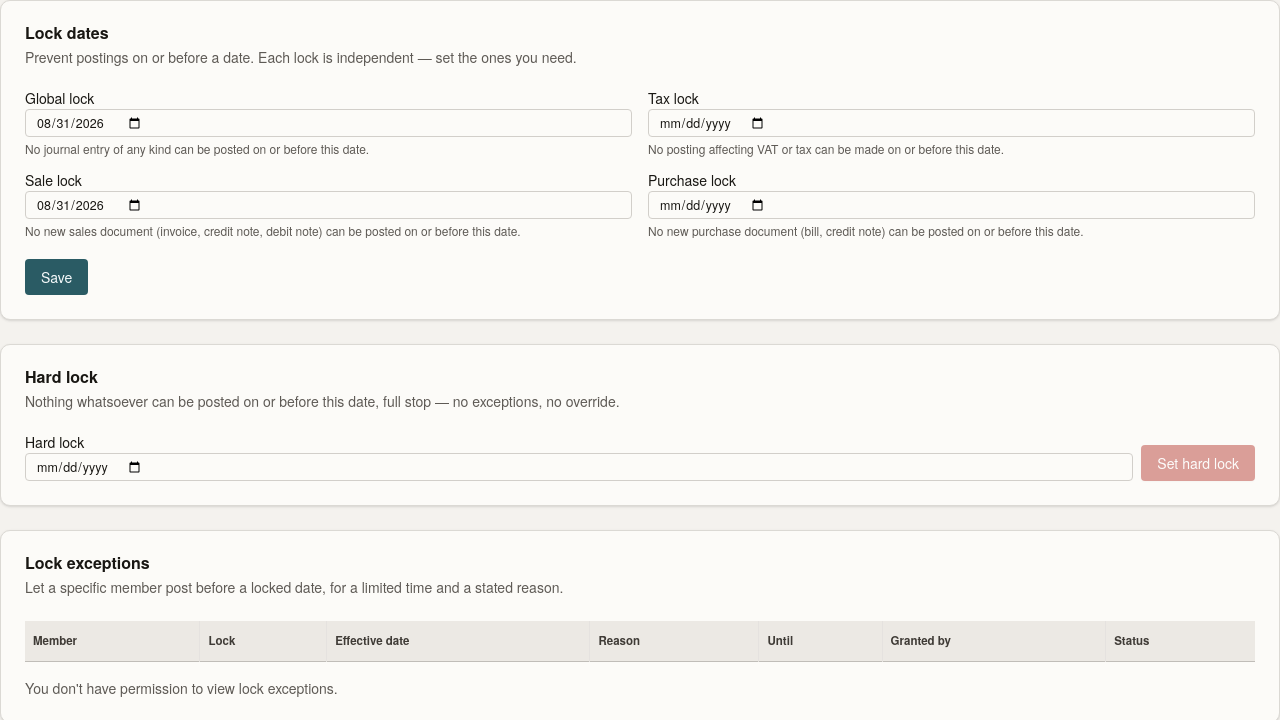
Test: LockDatesSettings › requires explicit confirmation before setting the hard lock, and it cannot be undone afterwards
In the date field labelled "Hard lock": {"x": 579, "y": 467} [25,453,1133,481], type "2026-07-31"
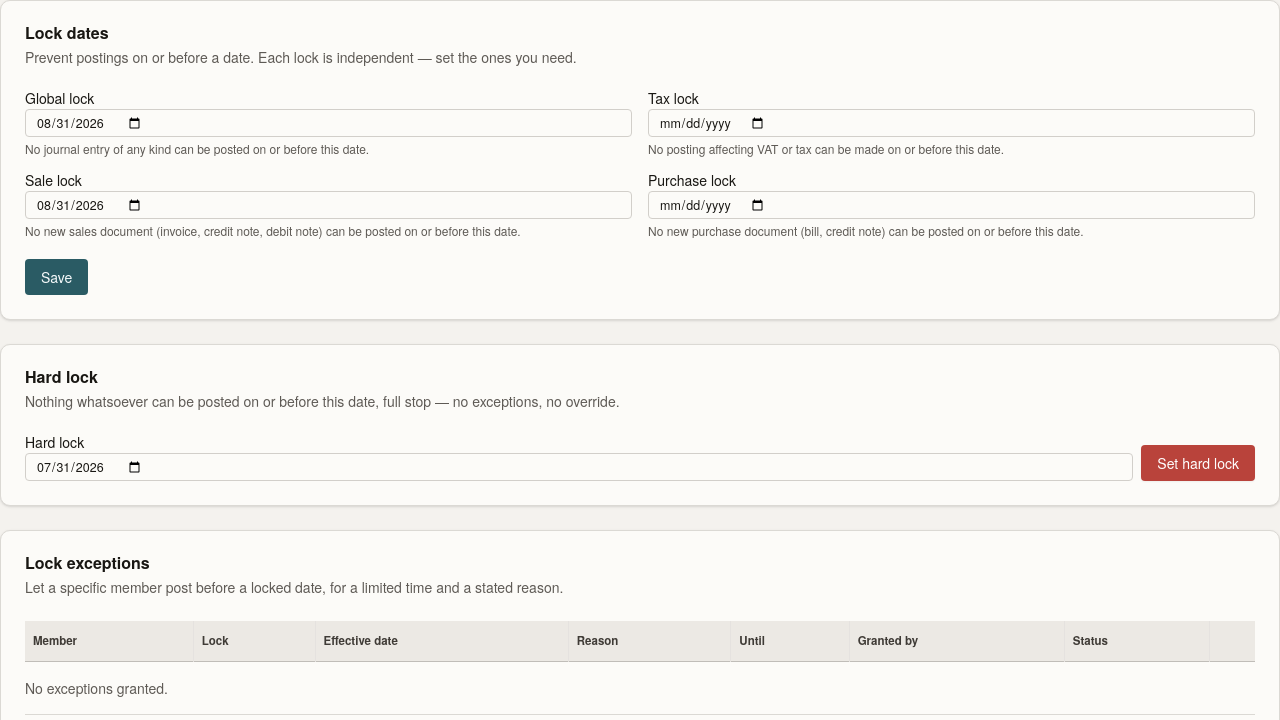
Click the button "Set hard lock": {"x": 1198, "y": 463} [1141,445,1255,481]
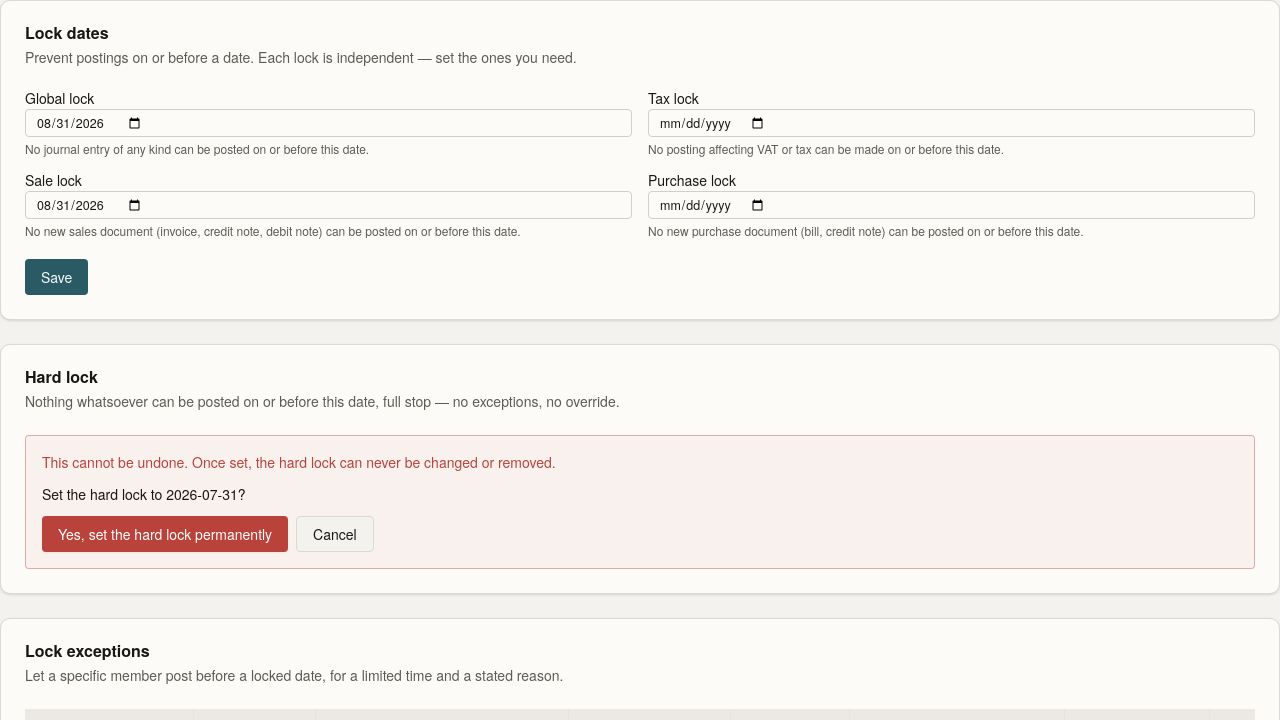
Expected: the text "This cannot be undone" is shown, [42,452,556,472]
Click the button "Yes, set the hard lock permanently": {"x": 165, "y": 534} [42,516,288,552]
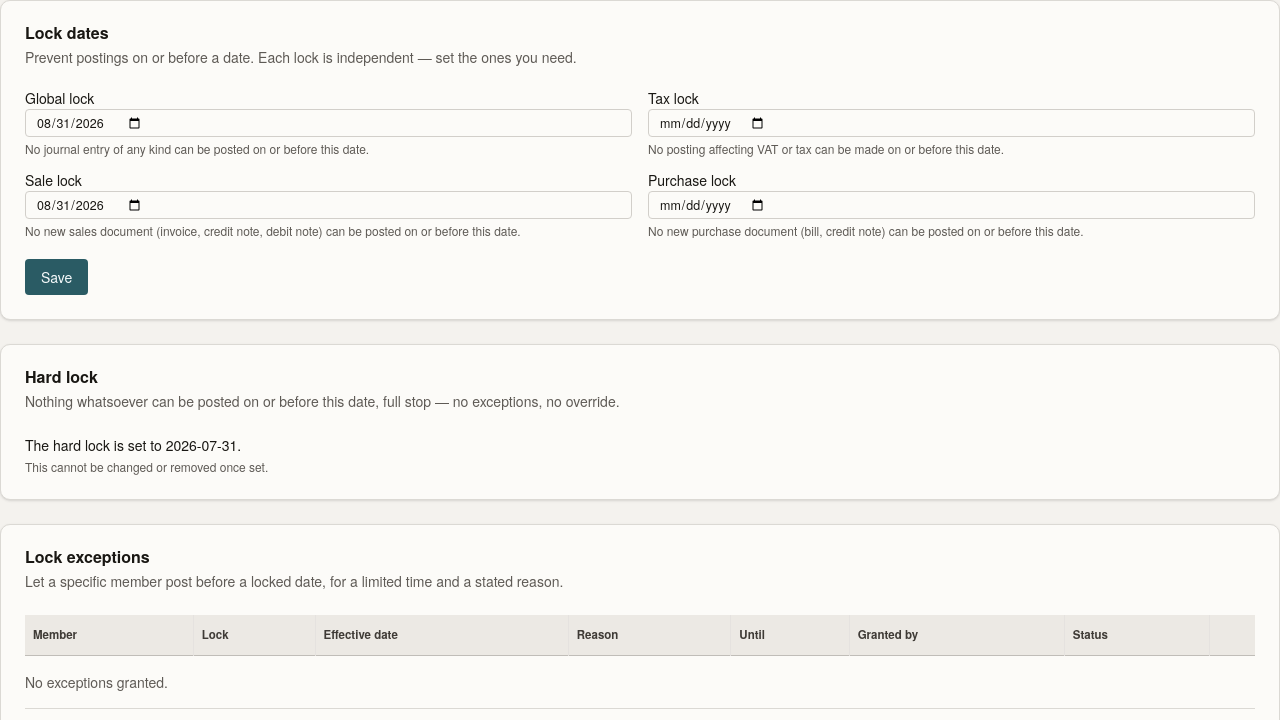
Expected: the text "The hard lock is set to 2026-07-31." is shown, [25,435,241,455]
